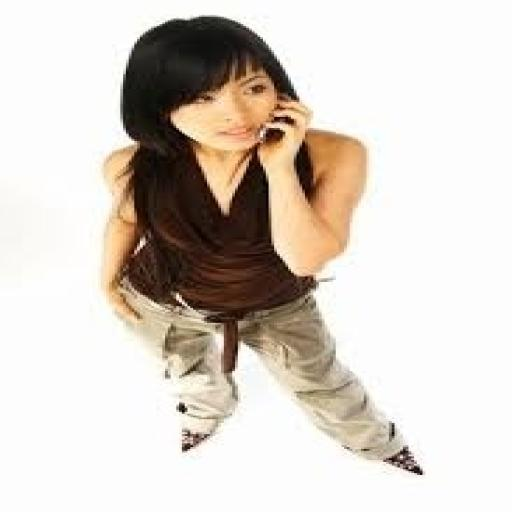calling: (95, 13, 428, 477)
